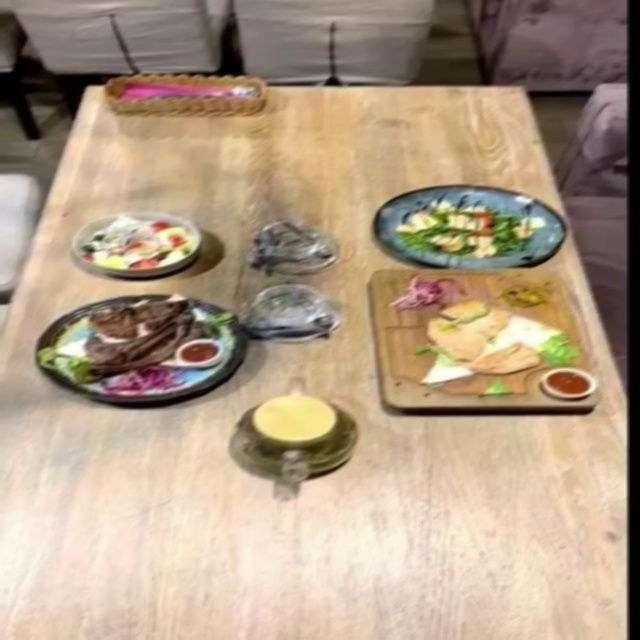meat: (366, 272, 599, 416), (32, 294, 248, 403)
salad: (373, 185, 567, 268), (70, 212, 203, 276)
tea: (231, 396, 360, 481)
